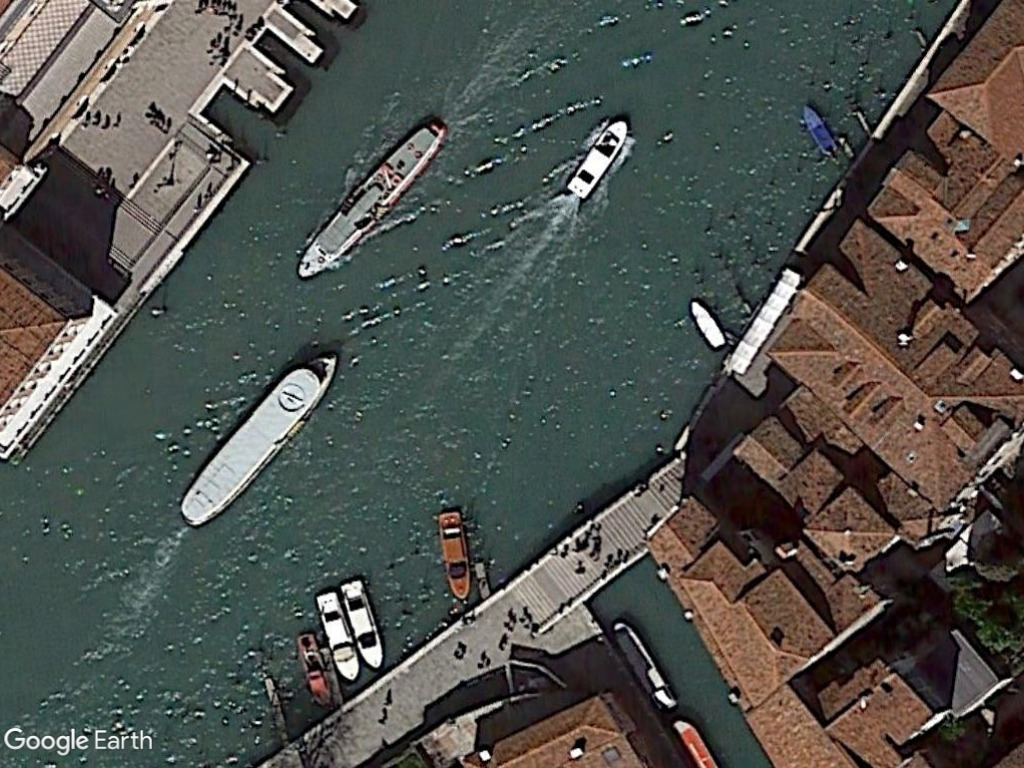boat: (174, 348, 341, 530), (287, 120, 452, 282), (561, 117, 633, 203), (311, 590, 364, 684), (338, 576, 388, 672), (436, 506, 475, 603), (295, 630, 333, 708), (798, 100, 841, 160), (687, 296, 729, 351)
